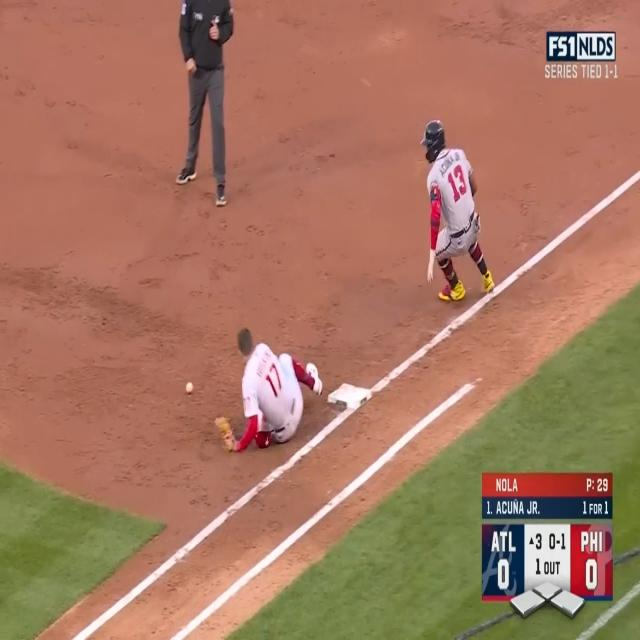baseball: (185, 380, 194, 395)
